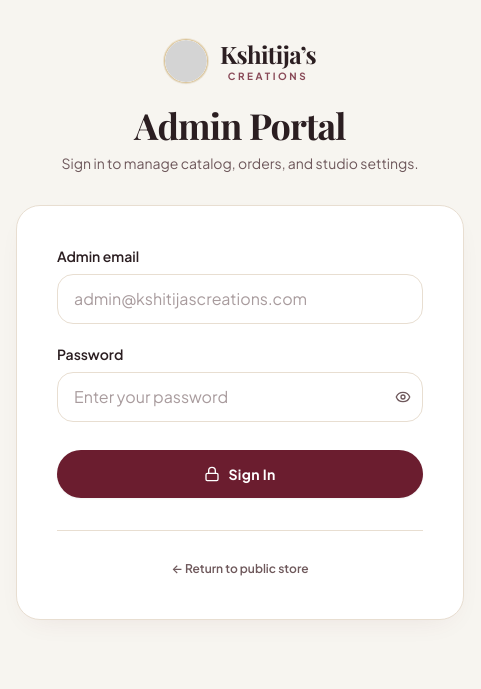
Scenario: AdminLoginPage › shows generic invalid credentials error message on authentication failure
Type "wrong@example.com" into the field labelled "Admin email" at {"x": 240, "y": 299}, box [57,274,423,324]
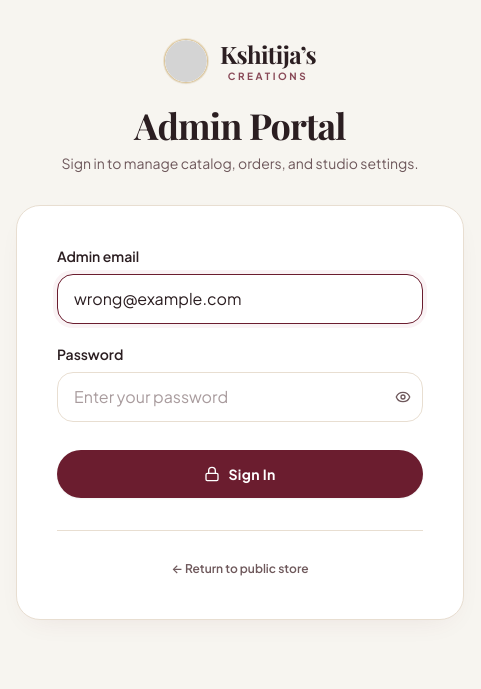
Type "incorrect-password" into the password field labelled "Password" at {"x": 240, "y": 397}, box [57,372,423,422]
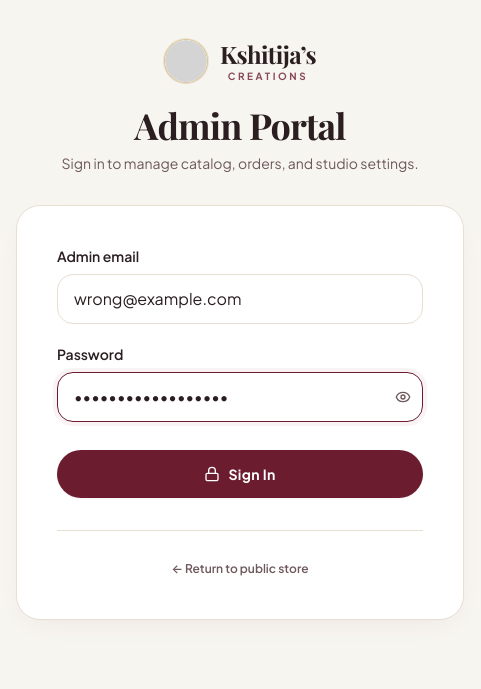
Click the button "Sign In" at {"x": 240, "y": 474}, box [57,450,423,498]
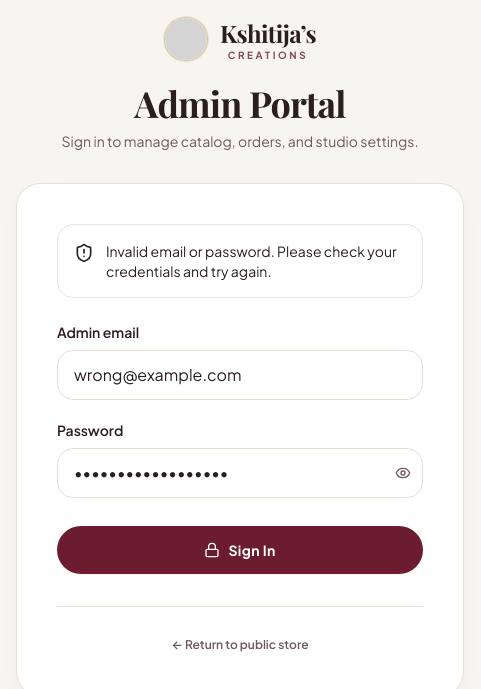
Check: the text "Invalid email or password. Please check your credentials and try again." is shown, box [106,241,406,281]
